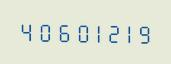four: (17, 18, 33, 43)
nine: (136, 20, 152, 45)
one: (85, 20, 101, 44), (119, 20, 135, 44)
six: (51, 19, 67, 43)
two: (102, 20, 118, 44)
zero: (34, 19, 50, 43), (68, 19, 84, 43)
